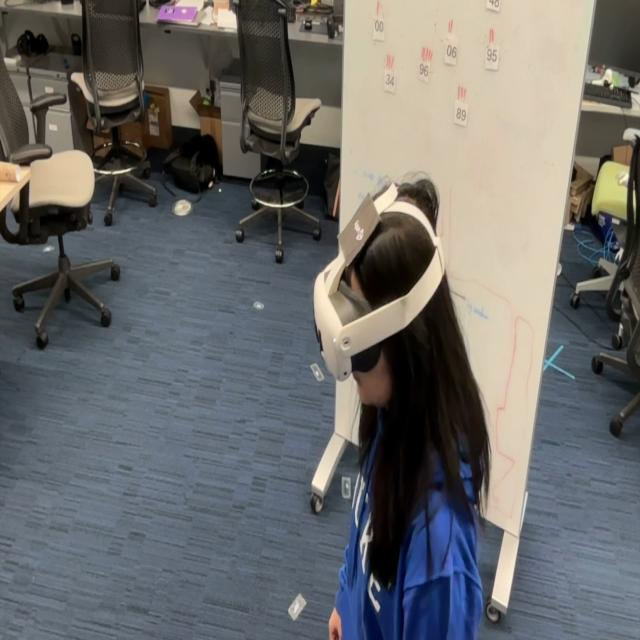Headset: (312, 178, 446, 382)
UnityLogo: (335, 194, 383, 274)
